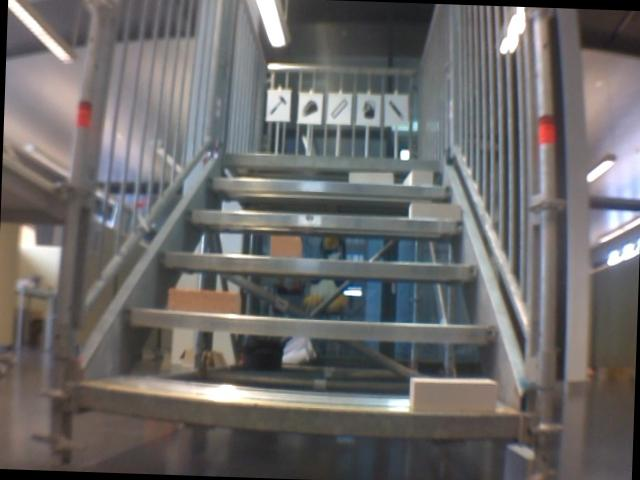brick: (410, 376, 495, 415), (167, 288, 241, 313), (408, 203, 460, 218), (270, 235, 302, 257), (349, 171, 392, 183), (403, 169, 432, 185)
bucket: (360, 98, 378, 120)
edge: (78, 384, 521, 441), (124, 307, 500, 344), (159, 253, 477, 280), (187, 209, 464, 232), (202, 176, 453, 197), (221, 152, 441, 173)
hammer: (266, 93, 288, 116)
pencil: (386, 98, 405, 121)
ruler: (329, 96, 350, 121)
steps: (75, 142, 532, 444)
taco: (300, 97, 318, 120)
